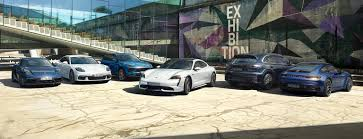car: (281, 58, 353, 99), (224, 51, 289, 91), (140, 57, 212, 91), (12, 57, 65, 88), (53, 55, 112, 81), (99, 53, 157, 76)
